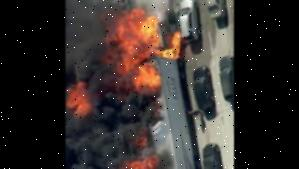fire: (98, 2, 186, 100), (65, 78, 94, 124), (116, 147, 170, 169)
